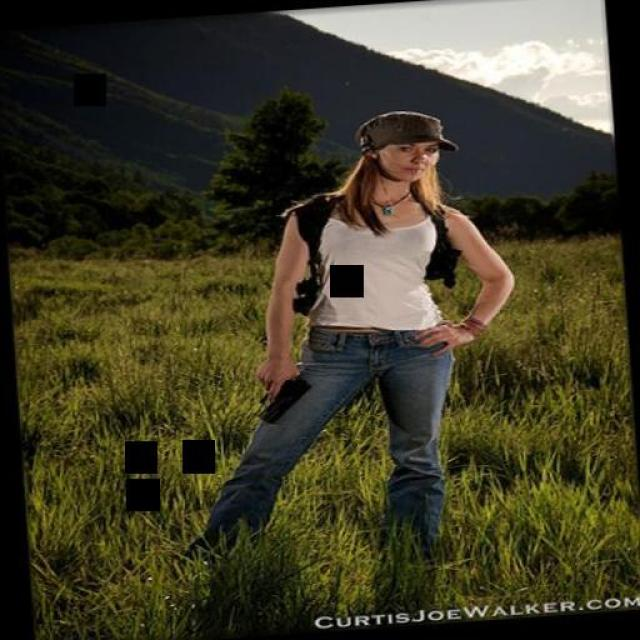gun: (245, 366, 316, 420)
